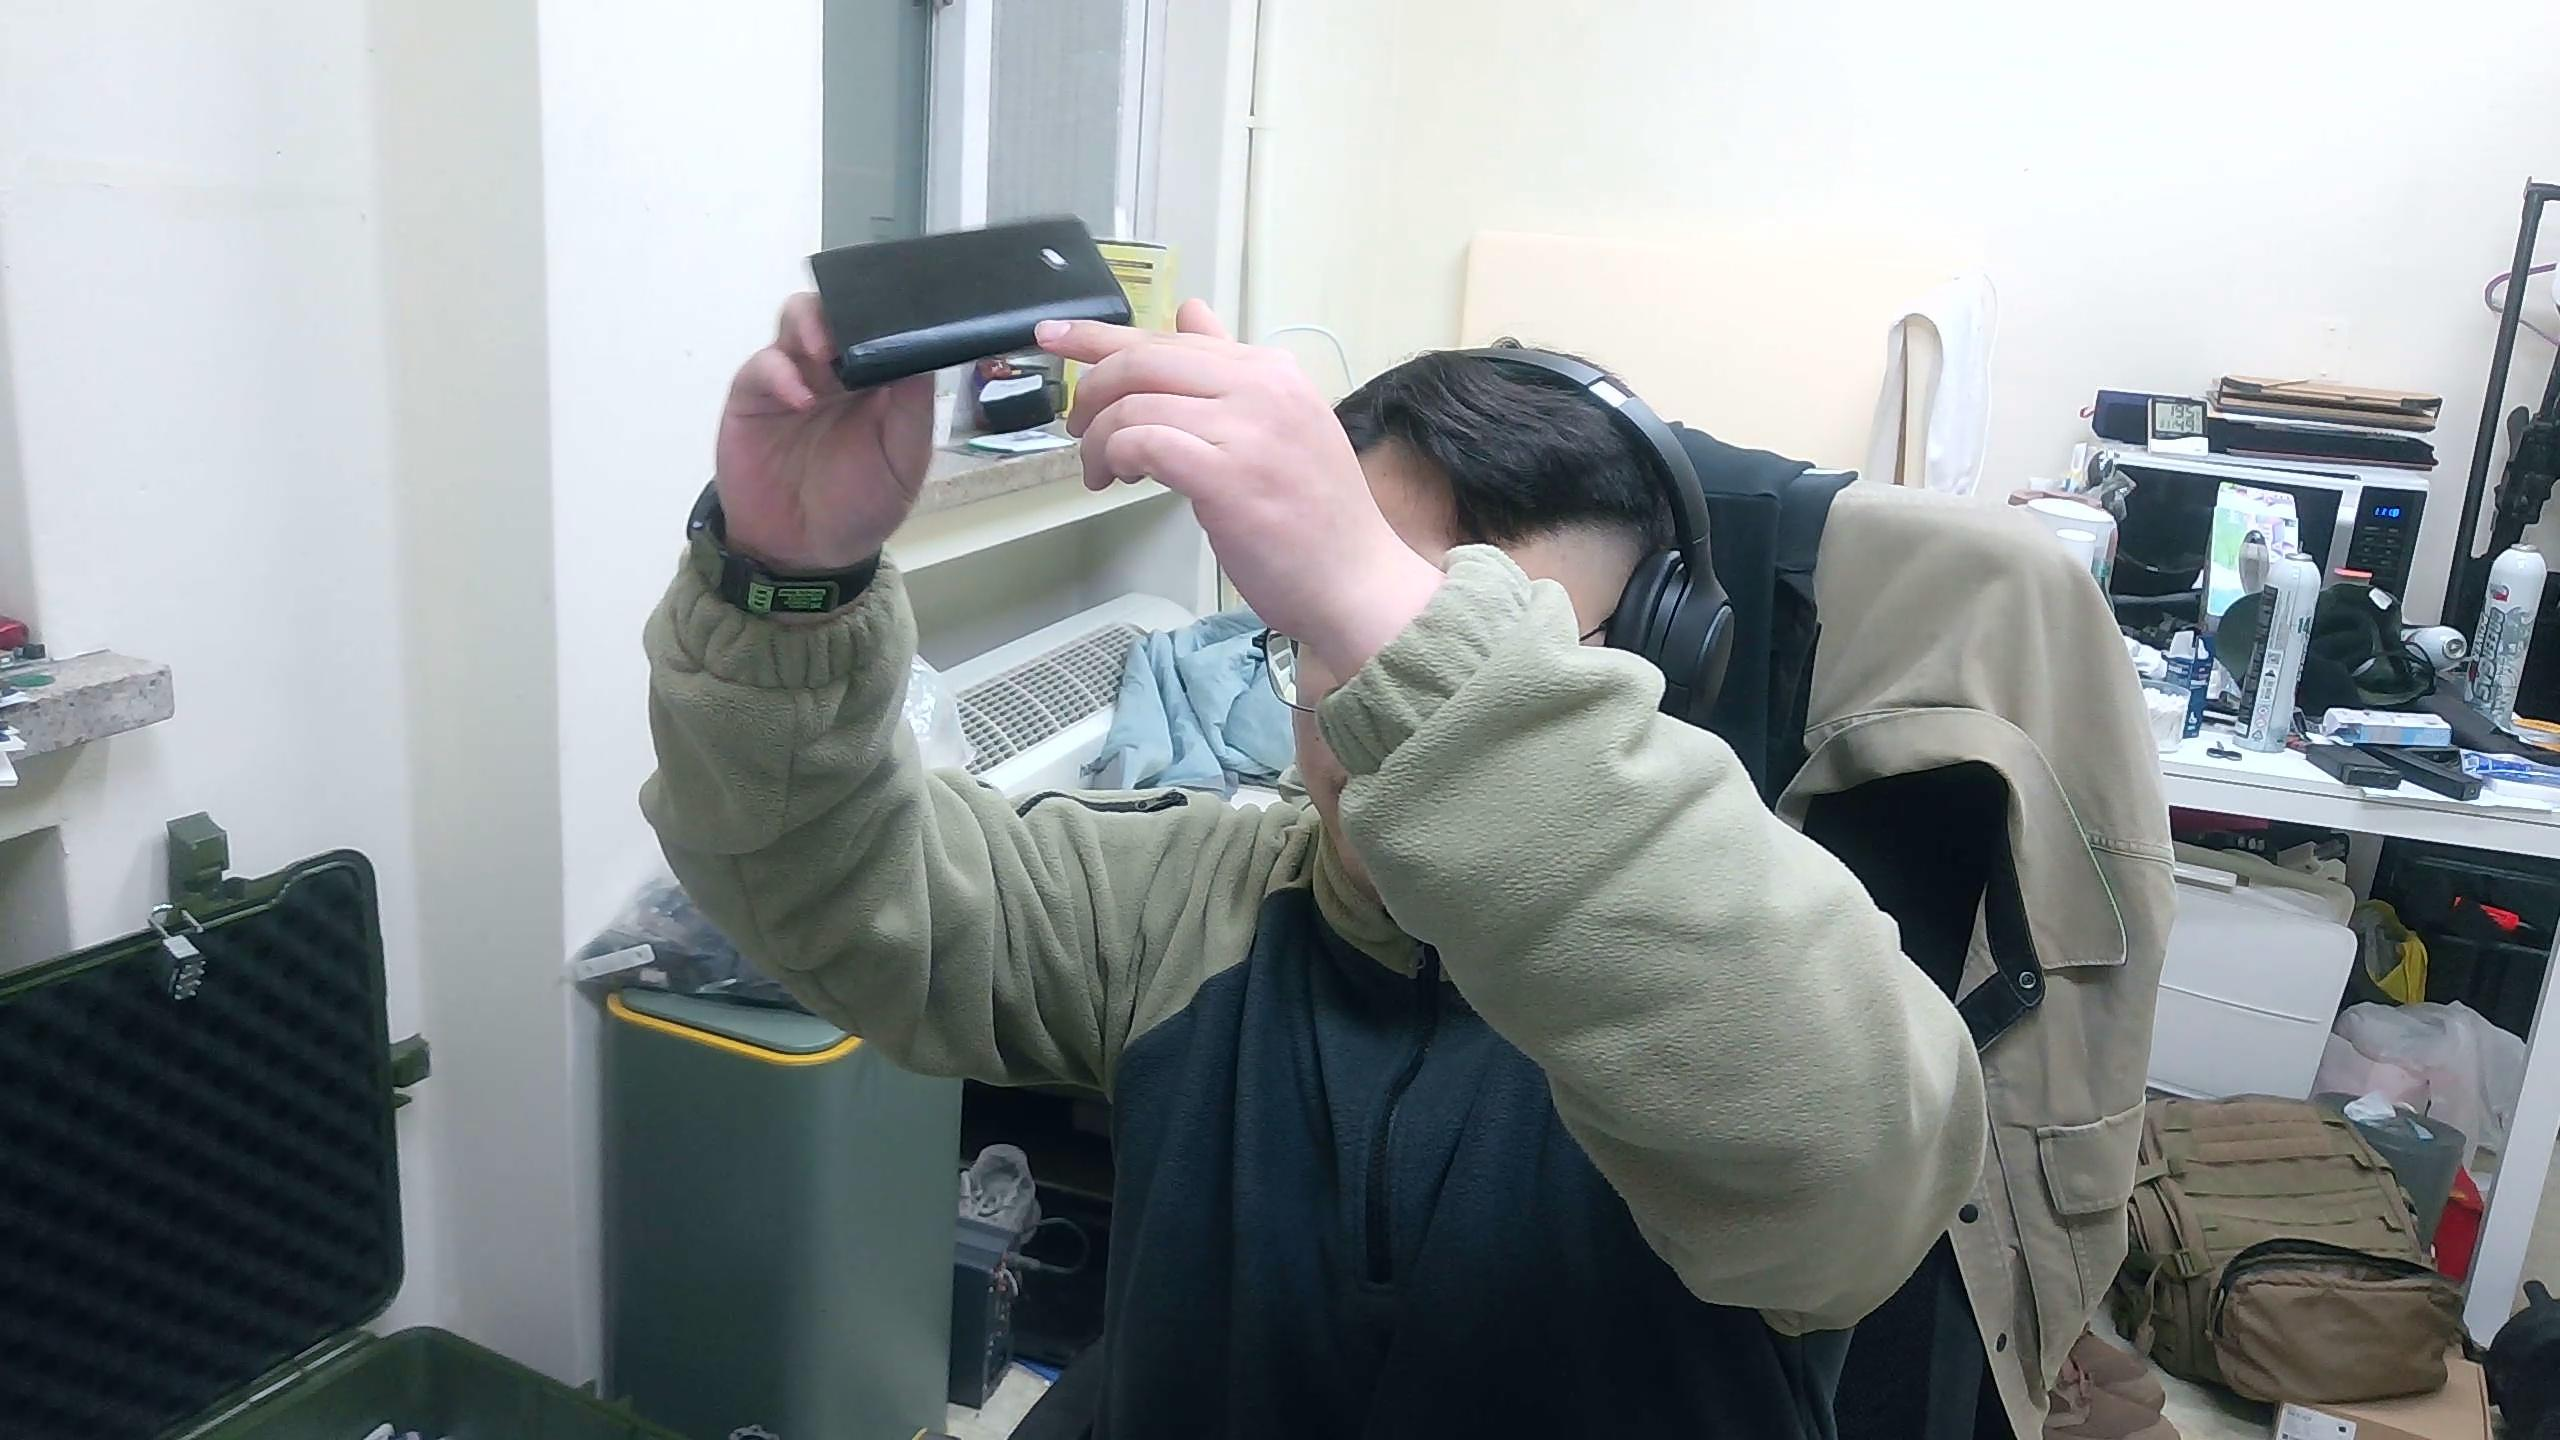earphone: (807, 213, 1138, 392)
